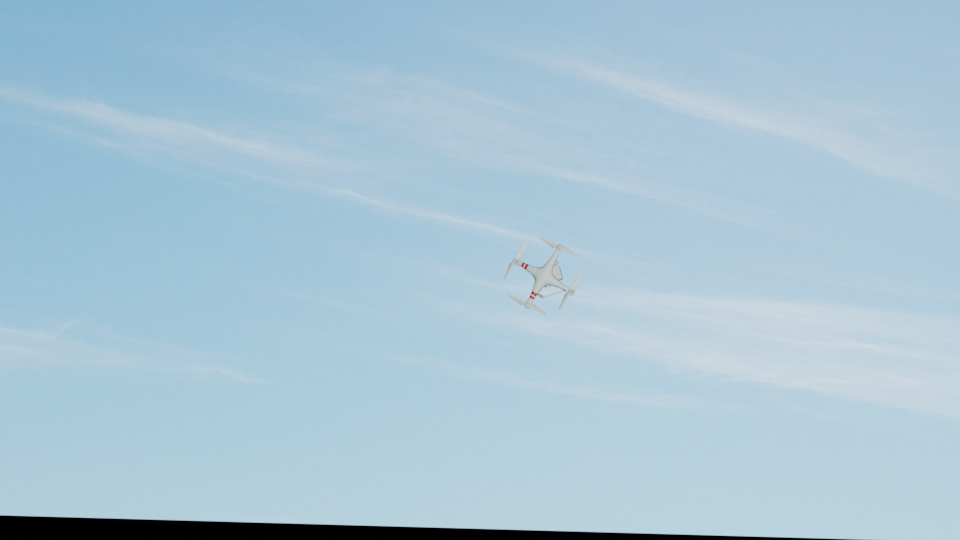drone: (505, 231, 583, 314)
